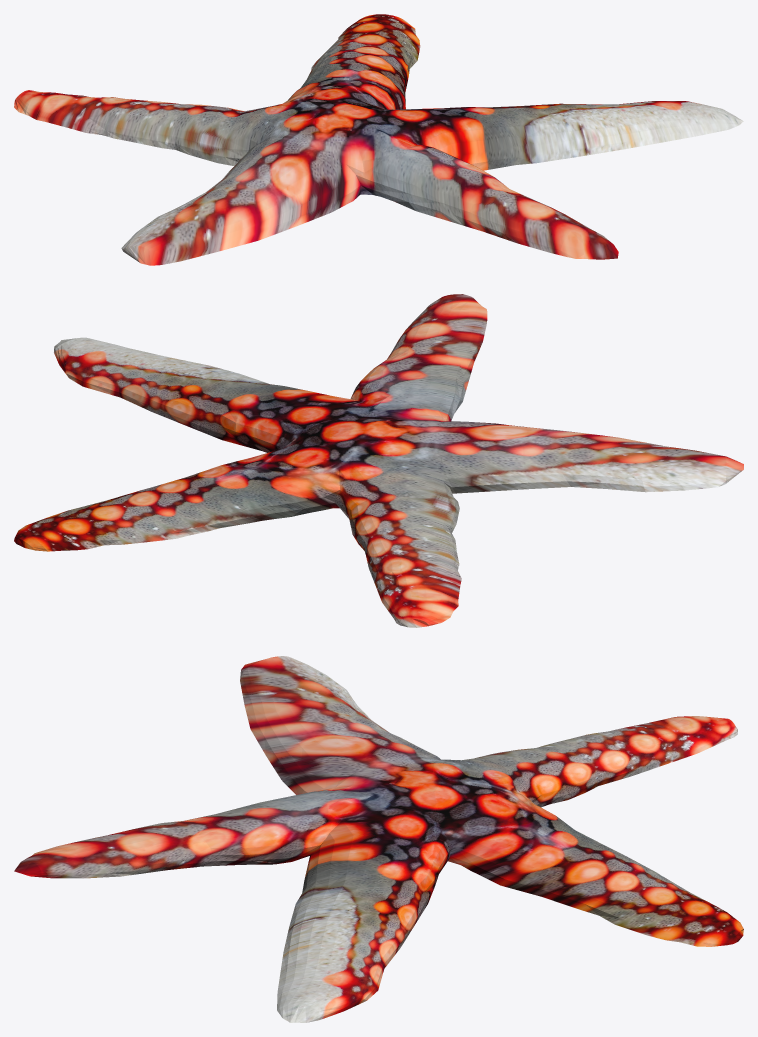
File: fishtank_starfish.dae
3 renders of one model, top to bottom at view 1: azimuth 30°, elevation 25°; view 2: azimuth 150°, elevation 25°; view 3: azimuth 270°, elevation 25°, orthographic. The views are drawn at different scales.
Parts seen in each view (by area): view 1: Starfish_002; view 2: Starfish_002; view 3: Starfish_002.
Boxes of the visible parts, bbox=[...] form: Starfish_002: bbox=[14, 14, 743, 265]; Starfish_002: bbox=[14, 294, 743, 627]; Starfish_002: bbox=[14, 656, 743, 1022].
Size of the model in its own units: 47.47 by 43.2 by 3.63.
Materials: 1 (1 with a texture image).
